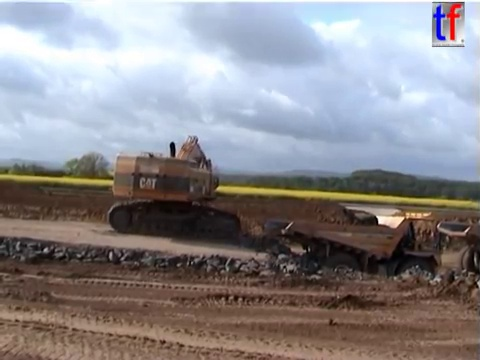excavator: (104, 133, 243, 242)
truck: (260, 209, 453, 300), (433, 218, 480, 284)
